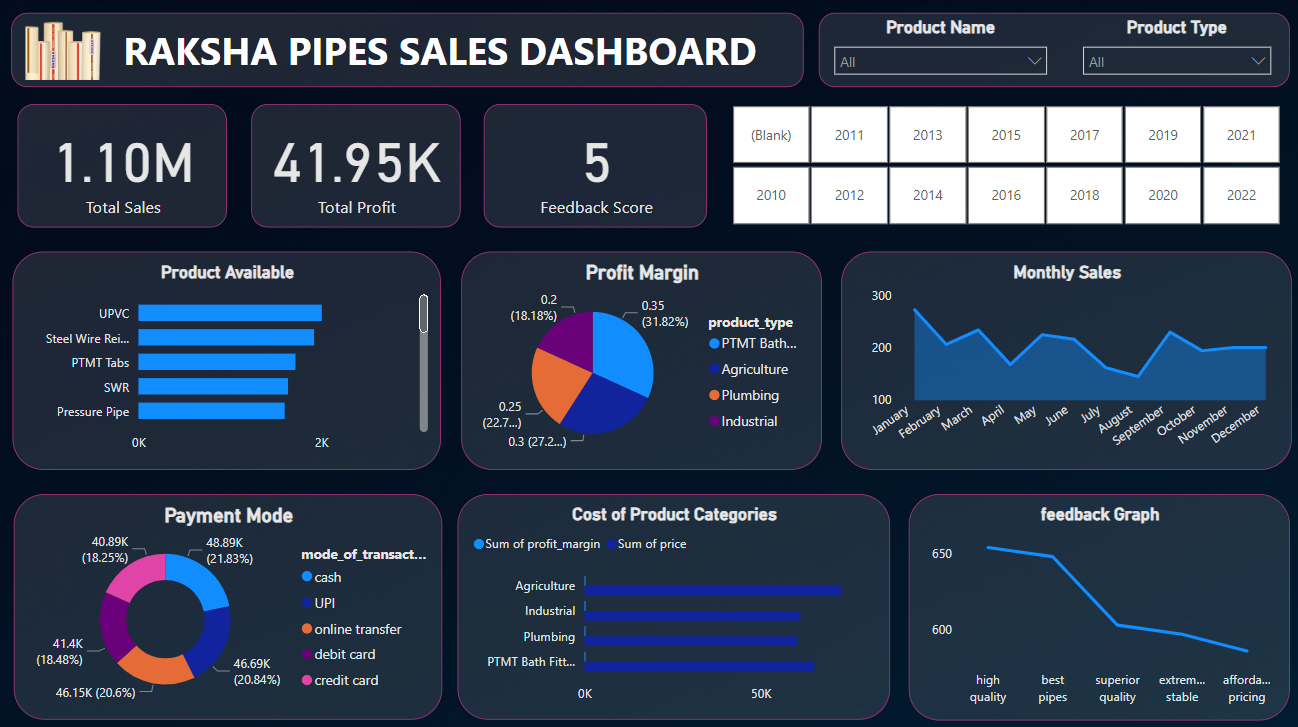

The dashboard page shown, as its layout file describes it:
{"tool":"powerbi","page":{"name":"Page 1","canvas":[1280,720],"ordinal":0},"visuals":[{"type":"textbox","box":[805.8,13.8,460.6,72.8],"z":0},{"type":"textbox","box":[16.5,13.7,775.3,72.7],"z":1000},{"type":"pieChart","title":"Profit Margin","fields":{"Category":["raksha_pipes profitmargins.product_type"],"Y":["Sum(raksha_pipes profitmargins.profit_margin)"]},"box":[455.6,247.3,352.7,213.4],"z":2000},{"type":"slicer","fields":{"Values":["raksha_pipes annualsales.Year"]},"box":[695.4,97.9,584.9,129.3],"z":3000},{"type":"card","title":"Total Profit","fields":{"Values":["Sum(raksha_pipes profitmargins.total_profit)"]},"box":[251,102.9,204.6,120.5],"z":4000},{"type":"card","title":"Total Profit","fields":{"Values":["Sum(raksha_pipes sales.total)"]},"box":[22.6,102.9,204.6,120.5],"z":5000},{"type":"card","title":"Total Profit","fields":{"Values":["Count(raksha_pipes customerfeedback.feedback_score)"]},"box":[478.2,102.9,218.4,120.5],"z":6000},{"type":"clusteredBarChart","title":"Cost of Product Categories","fields":{"Y":["Sum(raksha_pipes profitmargins.profit_margin)","Sum(raksha_pipes products.price)"],"Category":["raksha_pipes products.product_type"]},"box":[452.4,484.4,423,220.9],"z":7000},{"type":"donutChart","title":"Payment Mode","fields":{"Category":["raksha_pipes payments.mode_of_transaction"],"Y":["Sum(raksha_pipes payments.amount)"]},"box":[18.2,484.4,419.2,220.9],"z":8000},{"type":"barChart","title":"Product Available","fields":{"Category":["raksha_pipes products.product_name"],"Y":["Sum(raksha_pipes products.stock)"]},"box":[17.6,247.3,419.2,213.4],"z":9000},{"type":"lineChart","title":"Feedback Graph","fields":{"Category":["raksha_pipes customerfeedback.feedback_keyword"],"Y":["Sum(raksha_pipes customerfeedback.feedback_score)"]},"box":[893.9,484.2,373,221.3],"z":10000},{"type":"stackedAreaChart","title":"Monthly Sales","fields":{"Category":["raksha_pipes sales.order_date.Variation.Date Hierarchy.Month"],"Y":["Sum(raksha_pipes sales.quantity)"]},"box":[828.4,247.3,440.6,213.4],"z":11000},{"type":"slicer","title":"Product Name","fields":{"Values":["raksha_pipes products.product_name"]},"box":[810.7,17.1,228.7,68.5],"z":12000},{"type":"slicer","title":"Product Type","fields":{"Values":["raksha_pipes products.product_type"]},"box":[1054.1,17.1,204.2,68.5],"z":13000},{"type":"image","box":[9.8,0,114.9,84.4],"z":14000}]}

Visuals, with their boxes in screenshot pixels (x1, y1, x2, y2), scaled from the page's 1280x720 canvas onto the 1298x727 screenshot:
textbox: box=[817, 14, 1284, 87]
textbox: box=[17, 14, 803, 87]
"Profit Margin" pieChart: box=[462, 250, 820, 465]
slicer - raksha_pipes annualsales.Year: box=[705, 99, 1297, 229]
"Total Profit" card: box=[255, 104, 462, 226]
"Total Profit" card: box=[23, 104, 230, 226]
"Total Profit" card: box=[485, 104, 706, 226]
"Cost of Product Categories" clusteredBarChart: box=[459, 489, 888, 712]
"Payment Mode" donutChart: box=[18, 489, 444, 712]
"Product Available" barChart: box=[18, 250, 443, 465]
"Feedback Graph" lineChart: box=[906, 489, 1285, 712]
"Monthly Sales" stackedAreaChart: box=[840, 250, 1287, 465]
"Product Name" slicer: box=[822, 17, 1054, 86]
"Product Type" slicer: box=[1069, 17, 1276, 86]
image: box=[10, 0, 126, 85]
